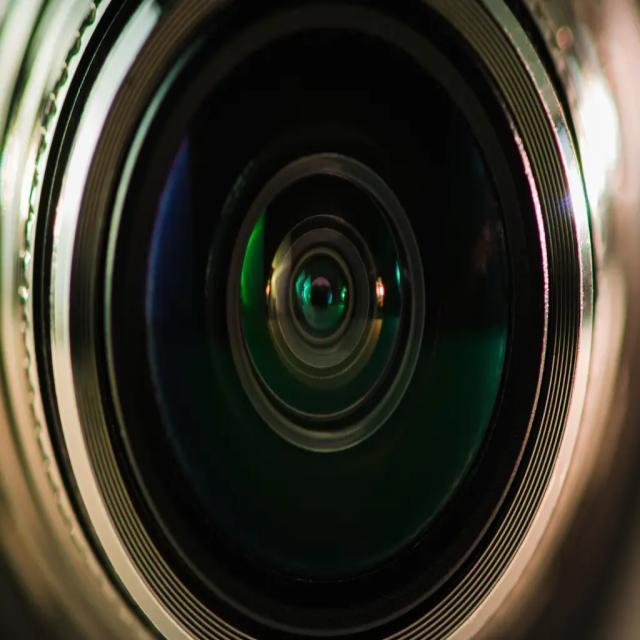hidden camera: (59, 4, 588, 609)
